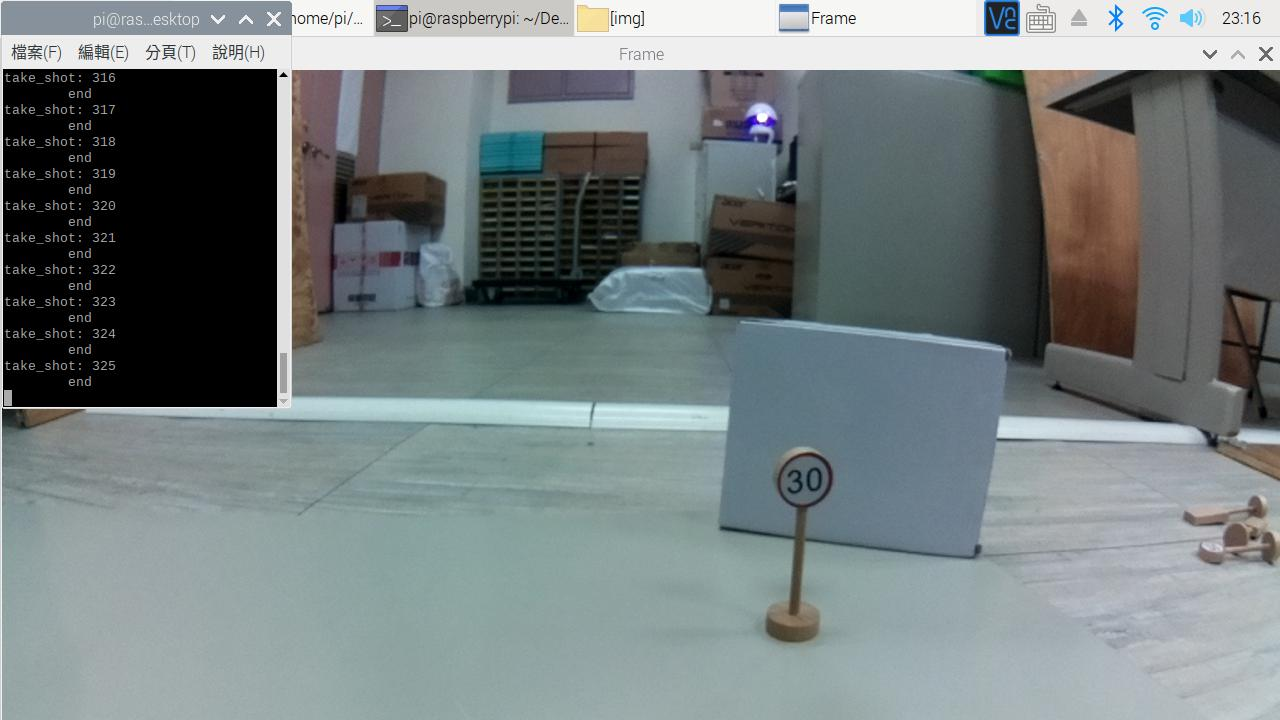Speed30: (756, 436, 842, 522)
